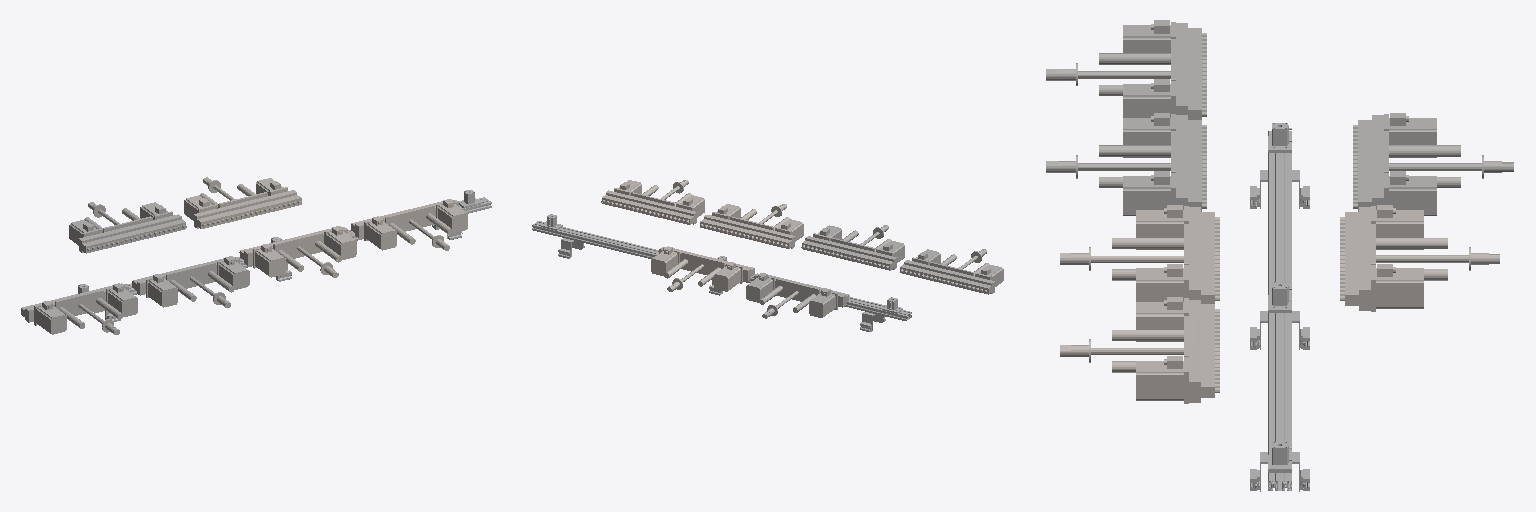
robot.urdf — straw_machine_urdf_ver2:
<?xml version="1.0" encoding="utf-8"?>
<!-- This URDF was automatically created by SolidWorks to URDF Exporter! Originally created by [author] ([email redacted]) 
     Commit Version: 1.6.0-1-g15f4949  Build Version: 1.6.7594.29634
     For more information, please see http://wiki.ros.org/sw_urdf_exporter -->
<robot
  name="straw_machine_urdf_ver2">
  <link
    name="base_footprint_link">
    <inertial>
      <origin
        xyz="-4.66499999999999 -1.42122541302568E-15 0.133662842012357"
        rpy="0 0 0" />
      <mass
        value="22.2756864" />
      <inertia
        ixx="0.82704398822242"
        ixy="1.94880482744346E-16"
        ixz="-1.23451412785749E-15"
        iyy="1.32108057062241"
        iyz="7.78350281109661E-17"
        izz="1.56687794176" />
    </inertial>
    <visual>
      <origin
        xyz="0 0 0"
        rpy="0 0 0" />
      <geometry>
        <mesh
          filename="package://straw_machine_urdf_ver2/meshes/base_footprint_link.STL" />
      </geometry>
      <material
        name="">
        <color
          rgba="1 1 1 0.15" />
      </material>
    </visual>
    <collision>
      <origin
        xyz="0 0 0"
        rpy="0 0 0" />
      <geometry>
        <mesh
          filename="package://straw_machine_urdf_ver2/meshes/base_footprint_link.STL" />
      </geometry>
    </collision>
  </link>
  <link
    name="base_link">
    <inertial>
      <origin
        xyz="-2.41216049027595 -0.00488489986570808 -0.25731214457616"
        rpy="0 0 0" />
      <mass
        value="1202.0089133133" />
      <inertia
        ixx="132.269701263897"
        ixy="3.58197179894802E-07"
        ixz="-2.04914937482778E-10"
        iyy="1043.35910574541"
        iyz="-0.000123119522437105"
        izz="1166.55895402404" />
    </inertial>
    <visual>
      <origin
        xyz="0 0 0"
        rpy="0 0 0" />
      <geometry>
        <mesh
          filename="package://straw_machine_urdf_ver2/meshes/base_link.STL" />
      </geometry>
      <material
        name="">
        <color
          rgba="0.898039215686275 0.917647058823529 0.929411764705882 1" />
      </material>
    </visual>
    <collision>
      <origin
        xyz="0 0 0"
        rpy="0 0 0" />
      <geometry>
        <mesh
          filename="package://straw_machine_urdf_ver2/meshes/base_link.STL" />
      </geometry>
    </collision>
  </link>
  <joint
    name="base_link"
    type="fixed">
    <origin
      xyz="0 0 0.54568"
      rpy="0 0 0" />
    <parent
      link="base_footprint_link" />
    <child
      link="base_link" />
    <axis
      xyz="0 0 0" />
  </joint>
  <link
    name="mu1">
    <inertial>
      <origin
        xyz="-0.33749355127765 -0.021458709219862 -0.13366233803147"
        rpy="0 0 0" />
      <mass
        value="75.0234298122286" />
      <inertia
        ixx="0.226305818645367"
        ixy="-4.14963555321239E-06"
        ixz="-3.05615942035832E-05"
        iyy="1.30907271090525"
        iyz="-0.0030212251503756"
        izz="1.19252874693084" />
    </inertial>
    <visual>
      <origin
        xyz="0 0 0"
        rpy="0 0 0" />
      <geometry>
        <mesh
          filename="package://straw_machine_urdf_ver2/meshes/mu1.STL" />
      </geometry>
      <material
        name="">
        <color
          rgba="0.776470588235294 0.756862745098039 0.737254901960784 1" />
      </material>
    </visual>
    <collision>
      <origin
        xyz="0 0 0"
        rpy="0 0 0" />
      <geometry>
        <mesh
          filename="package://straw_machine_urdf_ver2/meshes/mu1.STL" />
      </geometry>
    </collision>
  </link>
  <joint
    name="mu1"
    type="prismatic">
    <origin
      xyz="-0.9915 0.225 0.14651"
      rpy="1.5708 0 0" />
    <parent
      link="base_link" />
    <child
      link="mu1" />
    <axis
      xyz="0 0 1" />
    <limit
      lower="0"
      upper="0.035"
      effort="1000"
      velocity="10" />
  </joint>
  <link
    name="mu2">
    <inertial>
      <origin
        xyz="-0.337506448722345 0.0214587092198547 -0.133662338037329"
        rpy="0 0 0" />
      <mass
        value="75.0234298122285" />
      <inertia
        ixx="0.226305818645367"
        ixy="-4.14963555405236E-06"
        ixz="3.05615942034045E-05"
        iyy="1.30907271090524"
        iyz="0.0030212251503759"
        izz="1.19252874693084" />
    </inertial>
    <visual>
      <origin
        xyz="0 0 0"
        rpy="0 0 0" />
      <geometry>
        <mesh
          filename="package://straw_machine_urdf_ver2/meshes/mu2.STL" />
      </geometry>
      <material
        name="">
        <color
          rgba="0.776470588235294 0.756862745098039 0.737254901960784 1" />
      </material>
    </visual>
    <collision>
      <origin
        xyz="0 0 0"
        rpy="0 0 0" />
      <geometry>
        <mesh
          filename="package://straw_machine_urdf_ver2/meshes/mu2.STL" />
      </geometry>
    </collision>
  </link>
  <joint
    name="mu2"
    type="prismatic">
    <origin
      xyz="-0.9915 -0.225 0.14651"
      rpy="-1.5708 0 0" />
    <parent
      link="base_link" />
    <child
      link="mu2" />
    <axis
      xyz="0 0 1" />
    <limit
      lower="0"
      upper="0.035"
      effort="1000"
      velocity="10" />
  </joint>
  <link
    name="mu3">
    <inertial>
      <origin
        xyz="-0.337493551277646 -0.0214587092198459 -0.133662338031467"
        rpy="0 0 0" />
      <mass
        value="75.0234298122287" />
      <inertia
        ixx="0.226305818645368"
        ixy="-4.14963555423598E-06"
        ixz="-3.05615942044009E-05"
        iyy="1.30907271090525"
        iyz="-0.00302122515037526"
        izz="1.19252874693084" />
    </inertial>
    <visual>
      <origin
        xyz="0 0 0"
        rpy="0 0 0" />
      <geometry>
        <mesh
          filename="package://straw_machine_urdf_ver2/meshes/mu3.STL" />
      </geometry>
      <material
        name="">
        <color
          rgba="0.776470588235294 0.756862745098039 0.737254901960784 1" />
      </material>
    </visual>
    <collision>
      <origin
        xyz="0 0 0"
        rpy="0 0 0" />
      <geometry>
        <mesh
          filename="package://straw_machine_urdf_ver2/meshes/mu3.STL" />
      </geometry>
    </collision>
  </link>
  <joint
    name="mu3"
    type="prismatic">
    <origin
      xyz="-1.7415 0.225000000000725 0.146510533365592"
      rpy="1.57079632679489 0 0" />
    <parent
      link="base_link" />
    <child
      link="mu3" />
    <axis
      xyz="0 0 1" />
    <limit
      lower="0"
      upper="0.07"
      effort="1000"
      velocity="10" />
  </joint>
  <link
    name="mu4">
    <inertial>
      <origin
        xyz="-0.337506448722352 0.0214587092198618 -0.133662338037325"
        rpy="0 0 0" />
      <mass
        value="75.0234298122286" />
      <inertia
        ixx="0.226305818645367"
        ixy="-4.14963555284837E-06"
        ixz="3.05615942035984E-05"
        iyy="1.30907271090525"
        iyz="0.00302122515037554"
        izz="1.19252874693084" />
    </inertial>
    <visual>
      <origin
        xyz="0 0 0"
        rpy="0 0 0" />
      <geometry>
        <mesh
          filename="package://straw_machine_urdf_ver2/meshes/mu4.STL" />
      </geometry>
      <material
        name="">
        <color
          rgba="0.776470588235294 0.756862745098039 0.737254901960784 1" />
      </material>
    </visual>
    <collision>
      <origin
        xyz="0 0 0"
        rpy="0 0 0" />
      <geometry>
        <mesh
          filename="package://straw_machine_urdf_ver2/meshes/mu4.STL" />
      </geometry>
    </collision>
  </link>
  <joint
    name="mu4"
    type="prismatic">
    <origin
      xyz="-1.74149999999999 -0.224999999999301 0.146510533366394"
      rpy="-1.57079632680112 0 0" />
    <parent
      link="base_link" />
    <child
      link="mu4" />
    <axis
      xyz="0 0 1" />
    <limit
      lower="0"
      upper="0.07"
      effort="1000"
      velocity="10" />
  </joint>
  <link
    name="mu5">
    <inertial>
      <origin
        xyz="-0.337493551277648 -0.0214587092198401 -0.133662338031468"
        rpy="0 0 0" />
      <mass
        value="9.74330257301671" />
      <inertia
        ixx="0.0293902705498378"
        ixy="-3.70760250007013E-07"
        ixz="-3.96903820833513E-06"
        iyy="0.170009538482709"
        iyz="-0.000392366902646149"
        izz="0.154873863237772" />
    </inertial>
    <visual>
      <origin
        xyz="0 0 0"
        rpy="0 0 0" />
      <geometry>
        <mesh
          filename="package://straw_machine_urdf_ver2/meshes/mu5.STL" />
      </geometry>
      <material
        name="">
        <color
          rgba="0.741176470588235 0.733333333333333 0.725490196078431 1" />
      </material>
    </visual>
    <collision>
      <origin
        xyz="0 0 0"
        rpy="0 0 0" />
      <geometry>
        <mesh
          filename="package://straw_machine_urdf_ver2/meshes/mu5.STL" />
      </geometry>
    </collision>
  </link>
  <joint
    name="mu5"
    type="prismatic">
    <origin
      xyz="-2.4915 0.270000000000725 0.146510533366868"
      rpy="1.5707963267949 0 0" />
    <parent
      link="base_link" />
    <child
      link="mu5" />
    <axis
      xyz="0 0 1" />
    <limit
      lower="0"
      upper="0.105"
      effort="1000"
      velocity="10" />
  </joint>
  <link
    name="mu6">
    <inertial>
      <origin
        xyz="-0.337506448722347 0.0214587092198392 -0.133662338037327"
        rpy="0 0 0" />
      <mass
        value="9.74330257301669" />
      <inertia
        ixx="0.0293902705498377"
        ixy="-3.70760250010072E-07"
        ixz="3.96903820820157E-06"
        iyy="0.170009538482709"
        iyz="0.000392366902646219"
        izz="0.154873863237771" />
    </inertial>
    <visual>
      <origin
        xyz="0 0 0"
        rpy="0 0 0" />
      <geometry>
        <mesh
          filename="package://straw_machine_urdf_ver2/meshes/mu6.STL" />
      </geometry>
      <material
        name="">
        <color
          rgba="0.741176470588235 0.733333333333333 0.725490196078431 1" />
      </material>
    </visual>
    <collision>
      <origin
        xyz="0 0 0"
        rpy="0 0 0" />
      <geometry>
        <mesh
          filename="package://straw_machine_urdf_ver2/meshes/mu6.STL" />
      </geometry>
    </collision>
  </link>
  <joint
    name="mu6"
    type="prismatic">
    <origin
      xyz="-2.4915 -0.270000000000212 0.146510533368713"
      rpy="-1.5707963267949 0 0" />
    <parent
      link="base_link" />
    <child
      link="mu6" />
    <axis
      xyz="0 0 1" />
    <limit
      lower="0"
      upper="0.105"
      effort="1000"
      velocity="10" />
  </joint>
  <link
    name="mu7">
    <inertial>
      <origin
        xyz="-0.337506448722343 0.0214587092198324 -0.133662338037327"
        rpy="0 0 0" />
      <mass
        value="9.74330257301669" />
      <inertia
        ixx="0.0293902705498377"
        ixy="-3.7076025055957E-07"
        ixz="3.96903820820218E-06"
        iyy="0.170009538482709"
        iyz="0.000392366902646218"
        izz="0.154873863237771" />
    </inertial>
    <visual>
      <origin
        xyz="0 0 0"
        rpy="0 0 0" />
      <geometry>
        <mesh
          filename="package://straw_machine_urdf_ver2/meshes/mu7.STL" />
      </geometry>
      <material
        name="">
        <color
          rgba="0.741176470588235 0.733333333333333 0.725490196078431 1" />
      </material>
    </visual>
    <collision>
      <origin
        xyz="0 0 0"
        rpy="0 0 0" />
      <geometry>
        <mesh
          filename="package://straw_machine_urdf_ver2/meshes/mu7.STL" />
      </geometry>
    </collision>
  </link>
  <joint
    name="mu7"
    type="prismatic">
    <origin
      xyz="-3.2415 -0.270000000000213 0.146510533368611"
      rpy="-1.5707963267949 0 0" />
    <parent
      link="base_link" />
    <child
      link="mu7" />
    <axis
      xyz="0 0 1" />
    <limit
      lower="0"
      upper="0.125"
      effort="1000"
      velocity="10" />
  </joint>
  <link
    name="mu8">
    <inertial>
      <origin
        xyz="-0.00902959477954496 0.0698943780550052 1.18977000157236"
        rpy="0 0 0" />
      <mass
        value="4.82343832674429" />
      <inertia
        ixx="1.99920769464567"
        ixy="1.82398415652849E-07"
        ixz="-5.14382630318662E-11"
        iyy="1.99666259099405"
        iyz="-3.43923628570342E-13"
        izz="0.00536705301278456" />
    </inertial>
    <visual>
      <origin
        xyz="0 0 0"
        rpy="0 0 0" />
      <geometry>
        <mesh
          filename="package://straw_machine_urdf_ver2/meshes/mu8.STL" />
      </geometry>
      <material
        name="">
        <color
          rgba="0.745098039215686 0.745098039215686 0.745098039215686 1" />
      </material>
    </visual>
    <collision>
      <origin
        xyz="0 0 0"
        rpy="0 0 0" />
      <geometry>
        <mesh
          filename="package://straw_machine_urdf_ver2/meshes/mu8.STL" />
      </geometry>
    </collision>
  </link>
  <joint
    name="mu8"
    type="prismatic">
    <origin
      xyz="-0.850000000000082 0.0700000000007299 -0.0749894666276235"
      rpy="3.14159265358979 1.5707963267949 0" />
    <parent
      link="base_link" />
    <child
      link="mu8" />
    <axis
      xyz="0 0 1" />
    <limit
      lower="0"
      upper="0.75"
      effort="1000"
      velocity="10" />
  </joint>
  <link
    name="mu9">
    <inertial>
      <origin
        xyz="-1.3600879070105 -0.060006877299905 0.0195748859504543"
        rpy="0 0 0" />
      <mass
        value="7.92741305255929" />
      <inertia
        ixx="0.00932874603458194"
        ixy="2.28142662537775E-14"
        ixz="-1.14041024565378E-11"
        iyy="6.17044531613233"
        iyz="9.52720488149033E-15"
        izz="6.17707331946574" />
    </inertial>
    <visual>
      <origin
        xyz="0 0 0"
        rpy="0 0 0" />
      <geometry>
        <mesh
          filename="package://straw_machine_urdf_ver2/meshes/mu9.STL" />
      </geometry>
      <material
        name="">
        <color
          rgba="0.0196078431372549 0.0196078431372549 0.0196078431372549 1" />
      </material>
    </visual>
    <collision>
      <origin
        xyz="0 0 0"
        rpy="0 0 0" />
      <geometry>
        <mesh
          filename="package://straw_machine_urdf_ver2/meshes/mu9.STL" />
      </geometry>
    </collision>
  </link>
  <joint
    name="mu9"
    type="prismatic">
    <origin
      xyz="-0.135999999999621 0.00999999999901301 -0.17049999999978"
      rpy="3.14159265358979 1.5707963267949 0" />
    <parent
      link="mu8" />
    <child
      link="mu9" />
    <axis
      xyz="0 0 -1" />
    <limit
      lower="-0.025"
      upper="0"
      effort="1000"
      velocity="10" />
  </joint>
  <link
    name="mu10">
    <inertial>
      <origin
        xyz="-1.14500000109188 0.109999976859875 0.0523378904470692"
        rpy="0 0 0" />
      <mass
        value="8.18501864046987" />
      <inertia
        ixx="0.00888285080521464"
        ixy="1.08030237798506E-10"
        ixz="-4.48812324291885E-14"
        iyy="5.12456069917849"
        iyz="6.01659667330865E-15"
        izz="5.12545235396483" />
    </inertial>
    <visual>
      <origin
        xyz="0 0 0"
        rpy="0 0 0" />
      <geometry>
        <mesh
          filename="package://straw_machine_urdf_ver2/meshes/mu10.STL" />
      </geometry>
      <material
        name="">
        <color
          rgba="0.745098039215686 0.745098039215686 0.745098039215686 1" />
      </material>
    </visual>
    <collision>
      <origin
        xyz="0 0 0"
        rpy="0 0 0" />
      <geometry>
        <mesh
          filename="package://straw_machine_urdf_ver2/meshes/mu10.STL" />
      </geometry>
    </collision>
  </link>
  <joint
    name="mu10"
    type="prismatic">
    <origin
      xyz="-1.309 0.110000000002713 0.248010533366889"
      rpy="3.14159265358327 0 0" />
    <parent
      link="base_link" />
    <child
      link="mu10" />
    <axis
      xyz="0 0 -1" />
    <limit
      lower="-0.025"
      upper="0"
      effort="1000"
      velocity="10" />
  </joint>
  <link
    name="mu11">
    <inertial>
      <origin
        xyz="-0.261694611268462 0.0256427807403584 -0.10050000000153"
        rpy="0 0 0" />
      <mass
        value="1.25114323955213" />
      <inertia
        ixx="0.000717899928595948"
        ixy="4.55586557773469E-16"
        ixz="3.73230807634769E-16"
        iyy="0.0461840094909978"
        iyz="3.65564473459385E-15"
        izz="0.0457622801168268" />
    </inertial>
    <visual>
      <origin
        xyz="0 0 0"
        rpy="0 0 0" />
      <geometry>
        <mesh
          filename="package://straw_machine_urdf_ver2/meshes/mu11.STL" />
      </geometry>
      <material
        name="">
        <color
          rgba="0.745098039215686 0.745098039215686 0.745098039215686 1" />
      </material>
    </visual>
    <collision>
      <origin
        xyz="0 0 0"
        rpy="0 0 0" />
      <geometry>
        <mesh
          filename="package://straw_machine_urdf_ver2/meshes/mu11.STL" />
      </geometry>
    </collision>
  </link>
  <joint
    name="mu11"
    type="revolute">
    <origin
      xyz="-4.03499999999999 -0.100499999998081 0.0700105333734"
      rpy="1.5707963267848 0 0" />
    <parent
      link="base_link" />
    <child
      link="mu11" />
    <axis
      xyz="0 0 -1" />
    <limit
      lower="-0.162"
      upper="0"
      effort="1000"
      velocity="10" />
  </joint>
  <link
    name="mu12">
    <inertial>
      <origin
        xyz="0.00300000000058853 -0.101000000000001 -0.0202756052723925"
        rpy="0 0 0" />
      <mass
        value="0.0236831928822398" />
      <inertia
        ixx="4.39873596459813E-06"
        ixy="-4.76794351456162E-24"
        ixz="-6.24262851082808E-21"
        iyy="4.39873596459813E-06"
        iyz="5.65599866842109E-22"
        izz="1.2467025316996E-06" />
    </inertial>
    <visual>
      <origin
        xyz="0 0 0"
        rpy="0 0 0" />
      <geometry>
        <mesh
          filename="package://straw_machine_urdf_ver2/meshes/mu12.STL" />
      </geometry>
      <material
        name="">
        <color
          rgba="0.745098039215686 0.745098039215686 0.745098039215686 1" />
      </material>
    </visual>
    <collision>
      <origin
        xyz="0 0 0"
        rpy="0 0 0" />
      <geometry>
        <mesh
          filename="package://straw_machine_urdf_ver2/meshes/mu12.STL" />
      </geometry>
    </collision>
  </link>
  <joint
    name="mu12"
    type="prismatic">
    <origin
      xyz="-0.902500000000083 0.101000000000221 0.137510215448968"
      rpy="0 0 0" />
    <parent
      link="base_link" />
    <child
      link="mu12" />
    <axis
      xyz="0 0 1" />
    <limit
      lower="-0.02"
      upper="0"
      effort="10"
      velocity="10" />
  </joint>
</robot>

--- Render facts (derived) ---
3 views of the same robot in one strip: view 1: azimuth 30°, elevation 25°; view 2: azimuth 150°, elevation 25°; view 3: azimuth 270°, elevation 25° (orthographic).
Model straw_machine_urdf_ver2 with 14 links and 13 joints (1 revolute, 11 prismatic, 1 fixed), rooted at base_footprint_link, posed all joints at 0.
Visible links, largest first — view 1: mu3, mu4, mu7, mu5, mu6, mu2, mu8; view 2: mu8, mu3, mu7, mu4, mu5, mu6, mu2; view 3: mu8, mu3, mu2, mu6, mu5, mu7, mu4.
Boxes of the visible links, x1,y1,x2,y2 form: mu3: [184, 177, 301, 228]; mu4: [239, 226, 356, 277]; mu7: [21, 283, 137, 334]; mu5: [69, 202, 186, 253]; mu6: [132, 256, 249, 307]; mu2: [351, 199, 467, 250]; mu8: [78, 190, 491, 321]; mu8: [532, 214, 911, 331]; mu3: [651, 246, 754, 291]; mu7: [900, 249, 1003, 294]; mu4: [700, 204, 803, 248]; mu5: [746, 273, 849, 318]; mu6: [801, 225, 904, 270]; mu2: [601, 180, 704, 224]; mu8: [1250, 123, 1309, 491]; mu3: [1340, 205, 1499, 311]; mu2: [1060, 297, 1219, 403]; mu6: [1046, 113, 1206, 215]; mu5: [1353, 113, 1513, 215]; mu7: [1046, 20, 1206, 119]; mu4: [1060, 205, 1219, 303].
Size in the robot's own frame: 3.3 by 1.61 by 0.395 metres.
7 mesh visuals loaded from 14 distinct referenced files (7 binary STL); not drawn: 7 (reference not matched to a file when rendering).